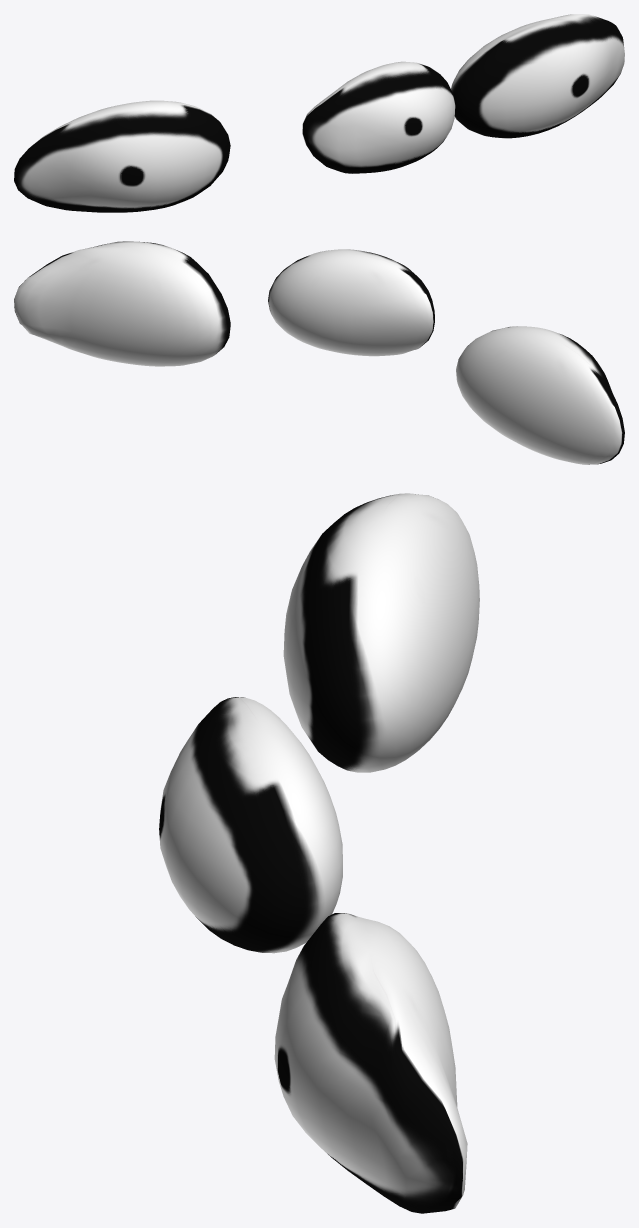
File: Three.glb
The picture shows the model from 3 angles, top to bottom: view 1: azimuth 30°, elevation 25°; view 2: azimuth 150°, elevation 25°; view 3: azimuth 270°, elevation 25°; orthographic projection. The views are drawn at different scales.
Visible parts, largest first — view 1: Sphere.006; view 2: Sphere.006; view 3: Sphere.006.
Boxes of the visible parts, x1=… form: Sphere.006: x1=14, y1=14, x2=624, y2=212; Sphere.006: x1=14, y1=241, x2=624, y2=464; Sphere.006: x1=159, y1=493, x2=479, y2=1213.
Bounding box in the file's own units: 0.3751 × 0.076 × 0.0862.
Materials: 1 (1 with a texture image).
